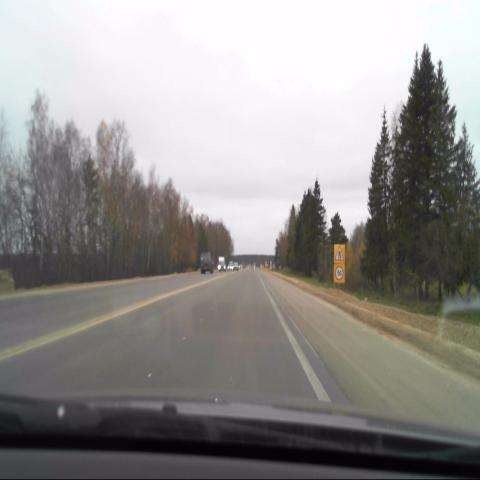1_20_2: (334, 244, 344, 262)
3_24: (334, 263, 344, 281)
